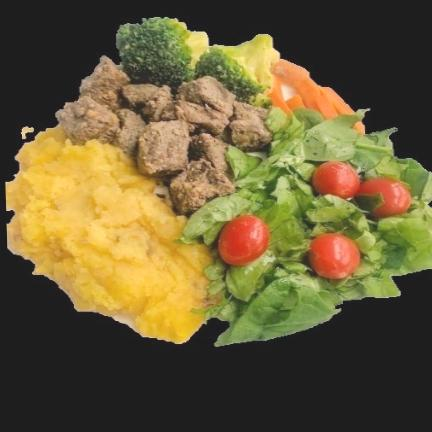broccoli: (117, 18, 280, 105)
carrot: (272, 59, 353, 119)
cassava: (5, 128, 212, 343)
meat: (56, 57, 272, 215)
salad: (179, 109, 431, 345)
tomato: (312, 161, 409, 217)
